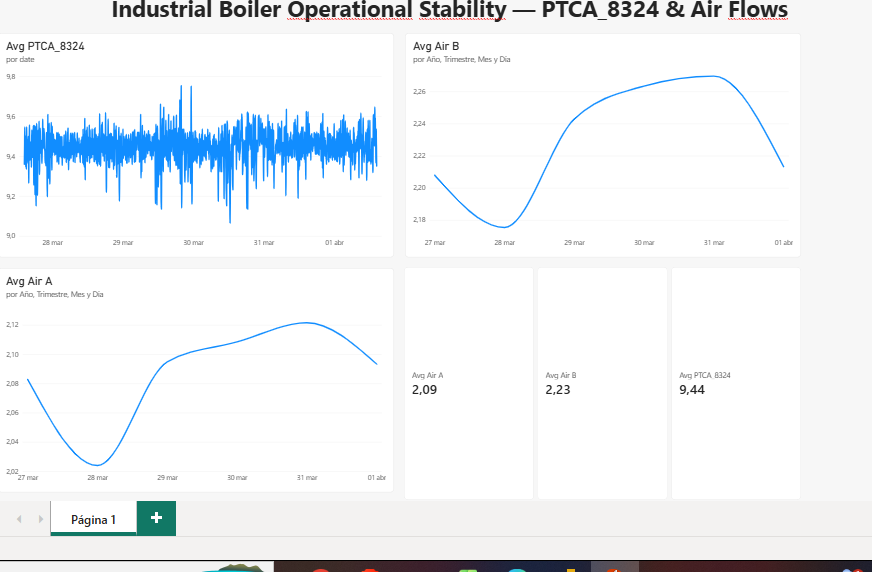

The page's visual inventory and layout, read from the dashboard file:
{"tool":"powerbi","page":{"name":"Página 1","canvas":[1920,1080],"ordinal":0},"visuals":[{"type":"lineChart","fields":{"Category":["boiler_powerbi_summary csv.date"],"Y":["boiler_powerbi_summary csv.Avg PTCA_8324"]},"box":[0,85,842.1,476.8],"z":0},{"type":"lineChart","fields":{"Category":["boiler_powerbi_summary csv.date.Variation.Jerarquía de fechas.Año","boiler_powerbi_summary csv.date.Variation.Jerarquía de fechas.Trimestre","boiler_powerbi_summary csv.date.Variation.Jerarquía de fechas.Mes","boiler_powerbi_summary csv.date.Variation.Jerarquía de fechas.Día"],"Y":["boiler_powerbi_summary csv.Avg Air A"]},"box":[0,584.6,842,477],"z":1000},{"type":"lineChart","fields":{"Category":["boiler_powerbi_summary csv.date.Variation.Jerarquía de fechas.Año","boiler_powerbi_summary csv.date.Variation.Jerarquía de fechas.Trimestre","boiler_powerbi_summary csv.date.Variation.Jerarquía de fechas.Mes","boiler_powerbi_summary csv.date.Variation.Jerarquía de fechas.Día"],"Y":["boiler_powerbi_summary csv.Avg Air B"]},"box":[865.3,85,842,477],"z":2000},{"type":"cardVisual","fields":{"Data":["boiler_powerbi_summary csv.Avg Air A","boiler_powerbi_summary csv.Avg Air B","boiler_powerbi_summary csv.Avg PTCA_8324"]},"box":[863.8,583.5,844.3,495.5],"z":2001},{"type":"textbox","box":[0,23.4,1920,84.8],"z":2002},{"type":"textbox","box":[1708.1,169.5,211.9,127.1],"z":2003}]}

Visuals, with their boxes on the page's 1920x1080 design canvas (x1, y1, x2, y2). These are canvas units, not pixel positions in the 872x572 screenshot, which may show the page scaled, cropped or inside an application window:
lineChart - boiler_powerbi_summary csv.date x boiler_powerbi_summary csv.Avg PTCA_8324: l=0, t=85, r=842, b=562
lineChart - boiler_powerbi_summary csv.date.Variation.Jerarquía de fechas.Año x boiler_powerbi_summary csv.date.Variation.Jerarquía de fechas.Trimestre: l=0, t=585, r=842, b=1062
lineChart - boiler_powerbi_summary csv.date.Variation.Jerarquía de fechas.Año x boiler_powerbi_summary csv.date.Variation.Jerarquía de fechas.Trimestre: l=865, t=85, r=1707, b=562
cardVisual - boiler_powerbi_summary csv.Avg Air A x boiler_powerbi_summary csv.Avg Air B: l=864, t=584, r=1708, b=1079
textbox: l=0, t=23, r=1920, b=108
textbox: l=1708, t=170, r=1920, b=297
